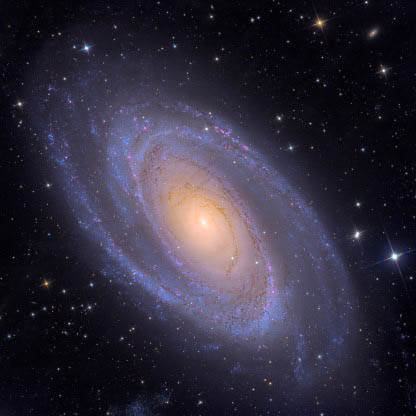Messier 81: (22, 32, 403, 393)
